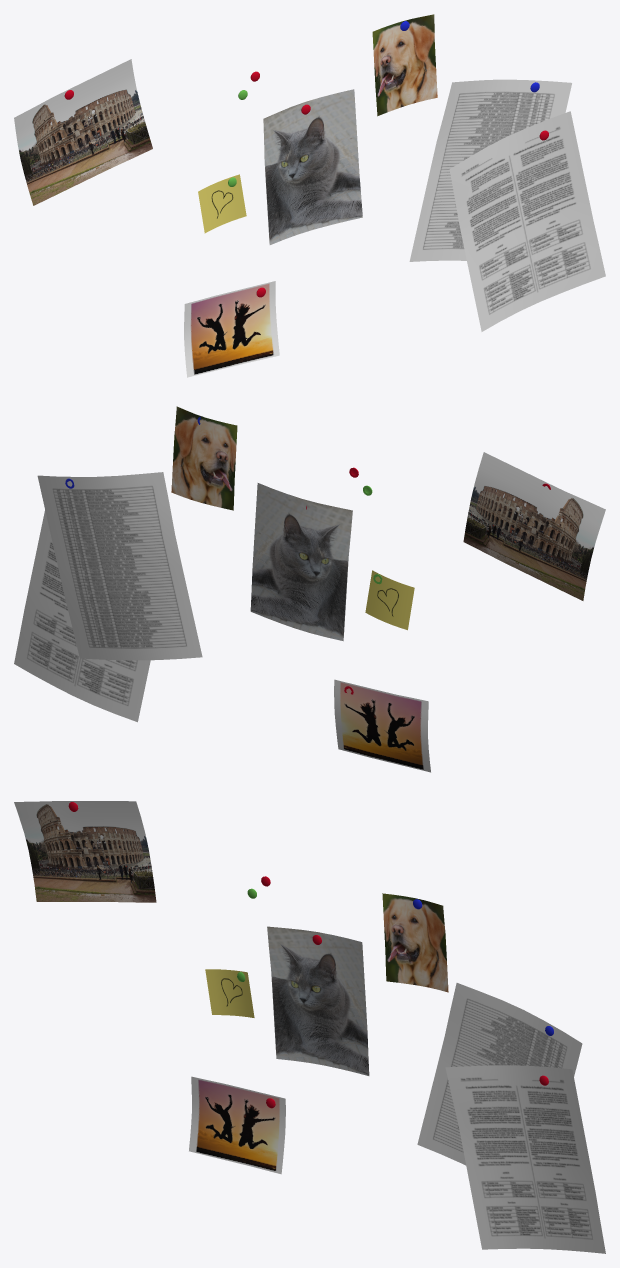
The model's file is Photos and papers.FBX.
3 renders of one model, top to bottom at view 1: azimuth 30°, elevation 25°; view 2: azimuth 150°, elevation 25°; view 3: azimuth 330°, elevation 25°, orthographic.
Visible parts, largest first — view 1: Photos and papers; view 2: Photos and papers; view 3: Photos and papers.
Boxes of the visible parts, x1,y1,x2,y2 form: Photos and papers: (14,14,605,377); Photos and papers: (14,406,605,772); Photos and papers: (14,801,605,1253).
Size of the model in its own units: 75.35 by 43.4 by 2.08.
Materials: 2 (2 with a texture image).
